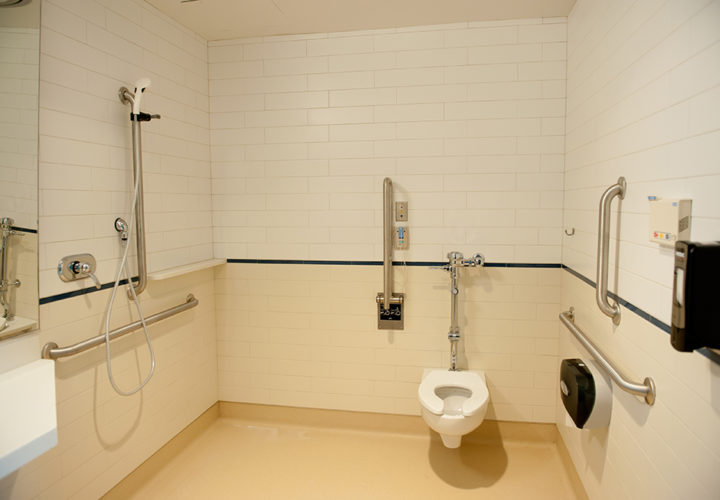dispenser: (671, 237, 720, 356), (560, 355, 616, 433)
restroom_assist_bar: (557, 306, 661, 409), (40, 293, 200, 359), (116, 85, 148, 300), (595, 180, 625, 326), (375, 174, 403, 322)
toilet: (416, 364, 491, 447)
toilet_handle: (428, 260, 453, 275), (7, 229, 26, 242)
